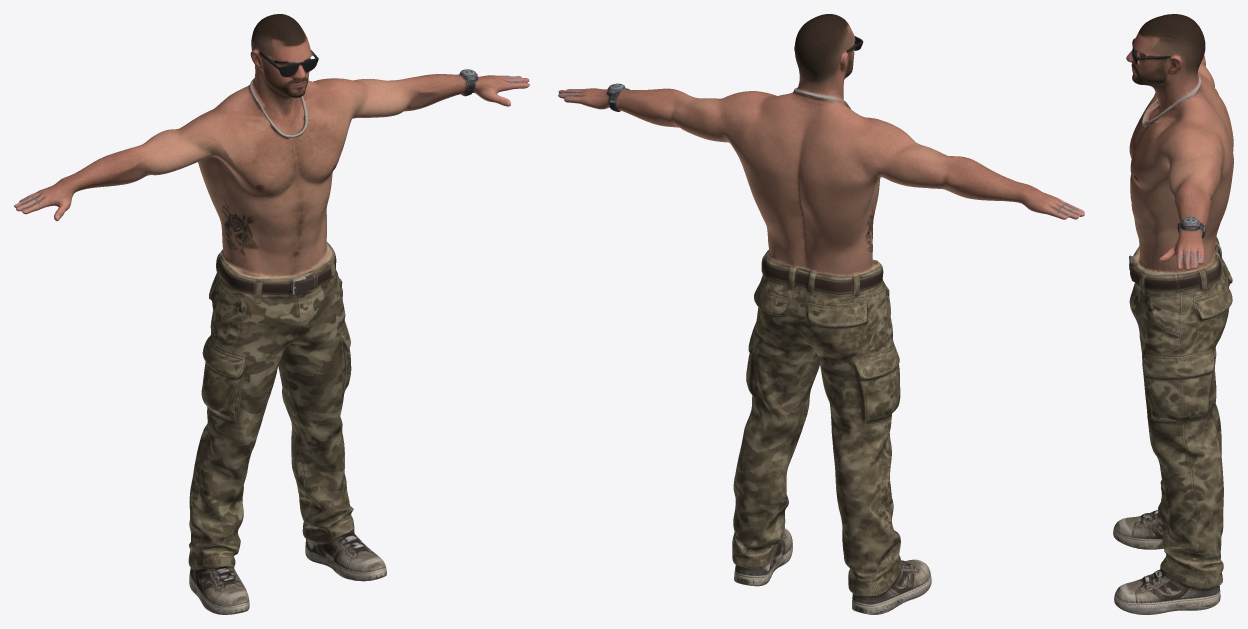
The model's file is Meshy_AI_Camouflage_Sentinel_Jason.fbx.
The picture shows the model from 3 angles, left to right: view 1: azimuth 30°, elevation 25°; view 2: azimuth 150°, elevation 25°; view 3: azimuth 270°, elevation 25°; orthographic projection.
Parts seen in each view (by area): view 1: Mesh_0; view 2: Mesh_0; view 3: Mesh_0.
Part boxes in pixels (x1,y1,x2,y2): Mesh_0: (14, 14, 529, 614); Mesh_0: (558, 14, 1084, 614); Mesh_0: (1113, 14, 1233, 614).
Bounding box in the file's own units: 183 × 190 × 37.22.
Materials: 1 (1 with a texture image).
